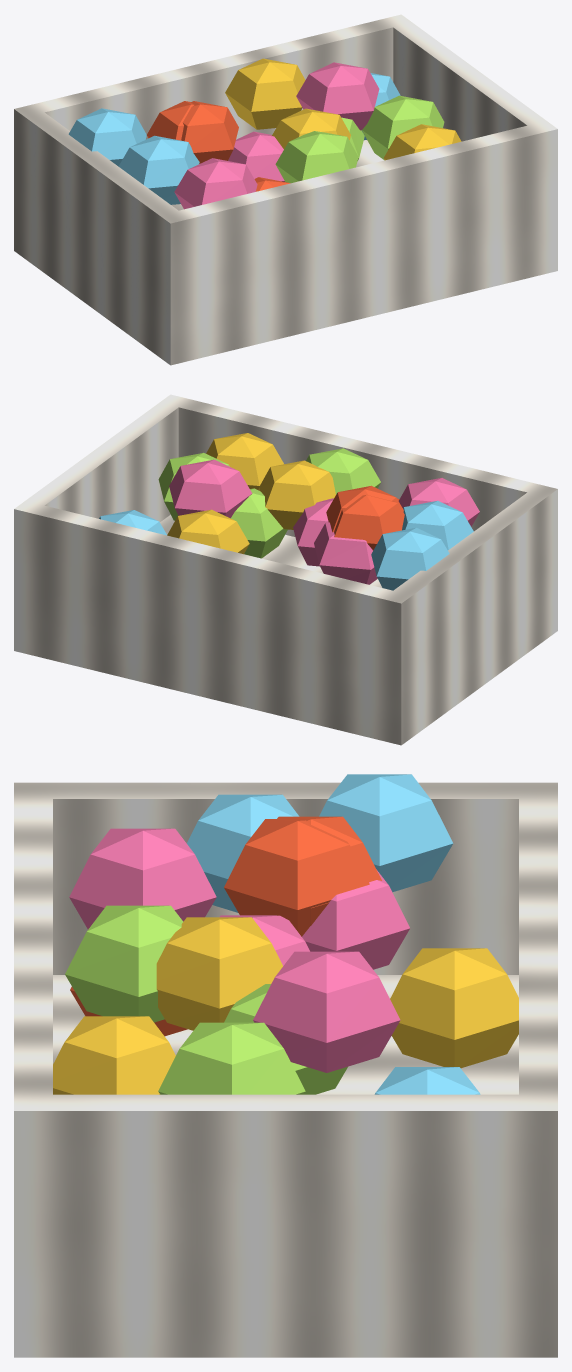
The model's file is caramelle.obj.
3 views of the same model, one above another, from view 1: azimuth 30°, elevation 25°; view 2: azimuth 150°, elevation 25°; view 3: azimuth 270°, elevation 25° (orthographic). The views are drawn at different scales.
Parts seen in each view (by area): view 1: caramelle; view 2: caramelle; view 3: caramelle.
Part boxes in pixels (x1,y1,x2,y2): caramelle: [14, 14, 557, 365]; caramelle: [14, 394, 557, 745]; caramelle: [14, 774, 557, 1357].
Size of the model in its own units: 0.2 by 0.0859 by 0.14.
Materials: 6 (1 with a texture image).
